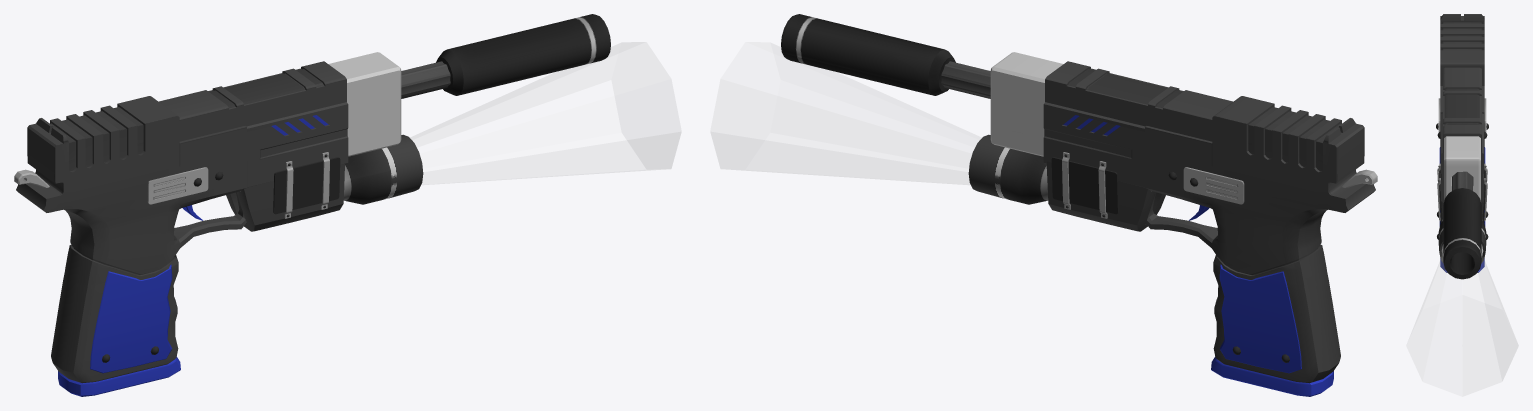
Rendered from Preview4.glb.
The picture shows the model from 3 angles, left to right: view 1: azimuth 30°, elevation 25°; view 2: azimuth 150°, elevation 25°; view 3: azimuth 270°, elevation 25°; orthographic projection. The views are drawn at different scales.
Parts seen in each view (by area): view 1: polySurface3, pCylinder1, flash_head_galss, silencer; view 2: polySurface3, pCylinder1, flash_head_galss, silencer; view 3: pCylinder1, polySurface3, silencer, flash_head_galss.
Part boxes in pixels (x1,y1,x2,y2): polySurface3: (16,52,450,396); pCylinder1: (410,42,681,184); flash_head_galss: (226,134,423,231); silencer: (436,14,610,95); polySurface3: (941,52,1375,396); pCylinder1: (710,42,981,184); flash_head_galss: (968,134,1165,231); silencer: (781,14,955,95); pCylinder1: (1406,255,1518,396); polySurface3: (1436,14,1488,272); silencer: (1443,188,1481,279); flash_head_galss: (1437,163,1487,263).
Bounding box in the file's own units: 0.6034 × 0.2436 × 0.1168.
Materials: 5 (3 with a texture image).
